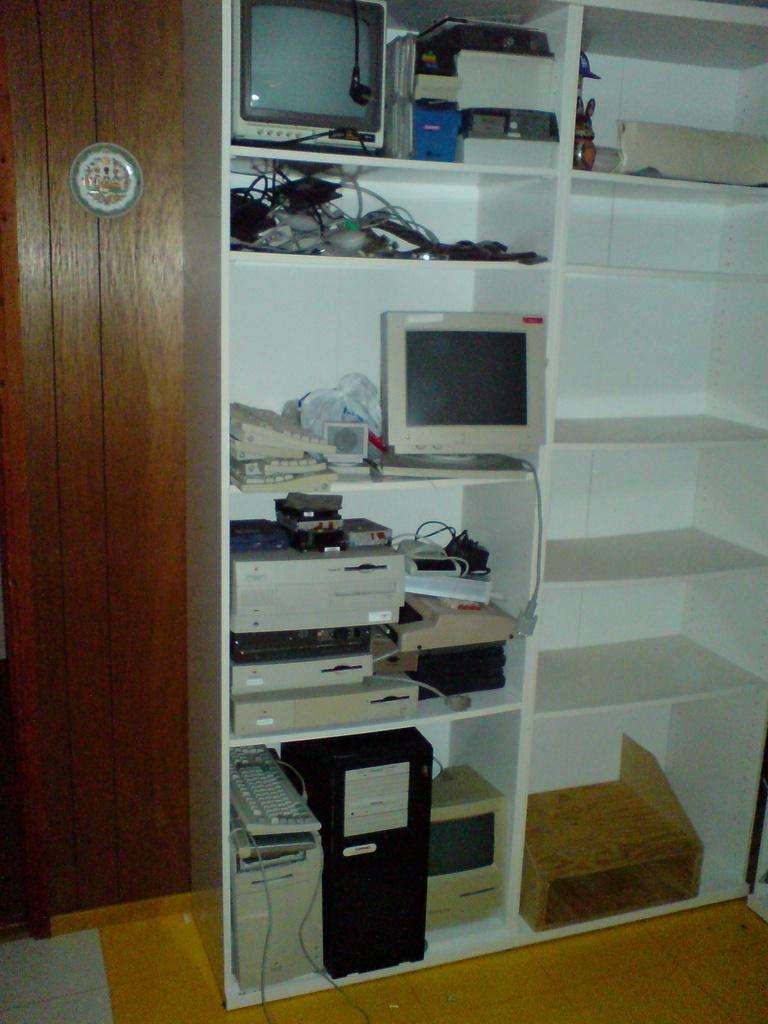Computer-monitor: (375, 305, 548, 474)
